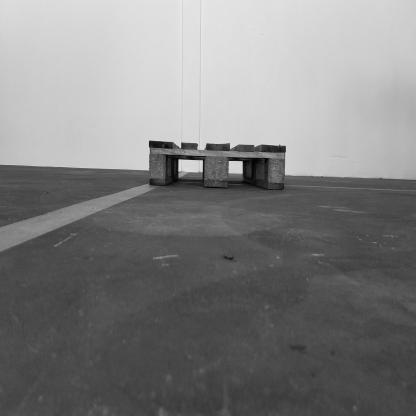BoxFace: (144, 140, 287, 193)
